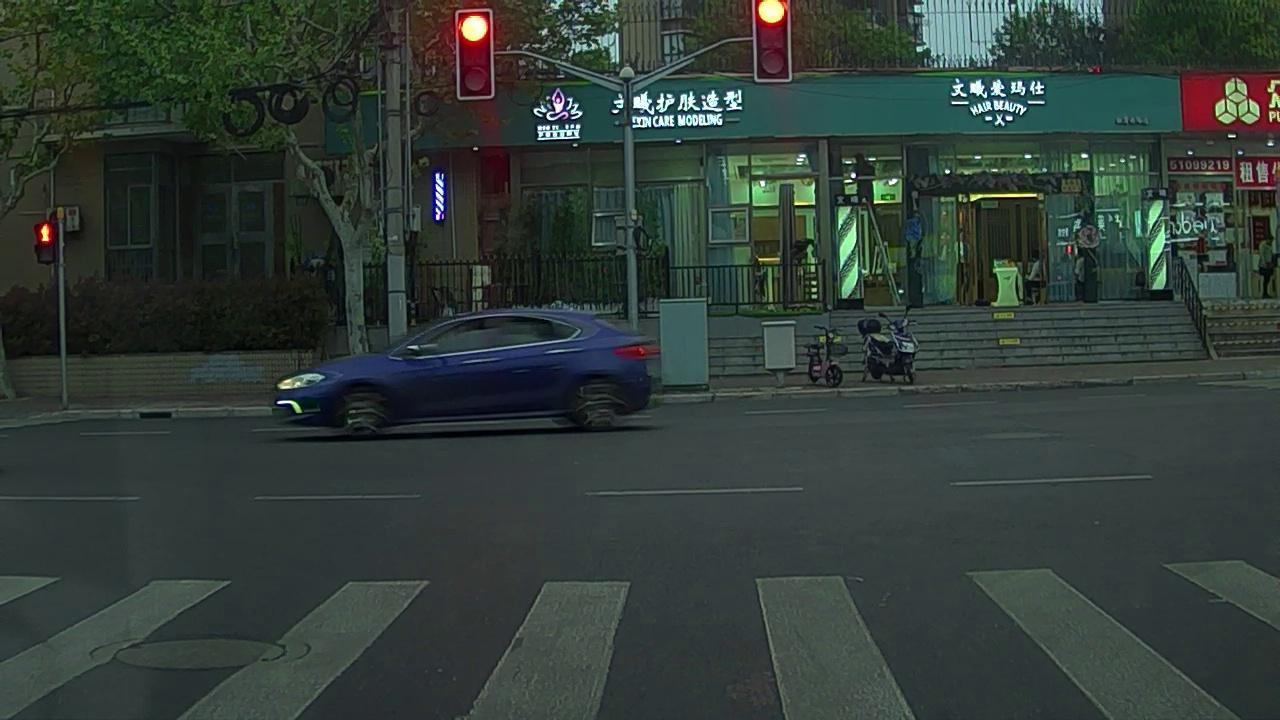traffic_light: (753, 1, 795, 83), (458, 9, 496, 97)
